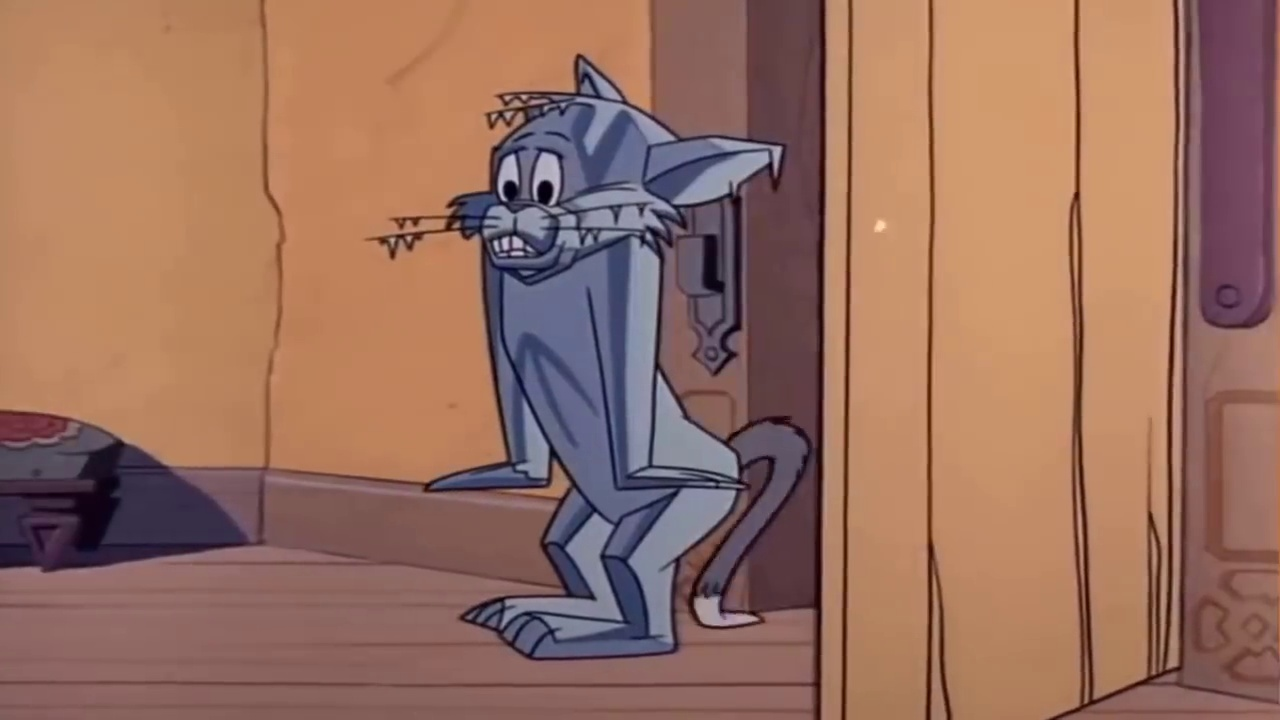face: (483, 126, 596, 281)
